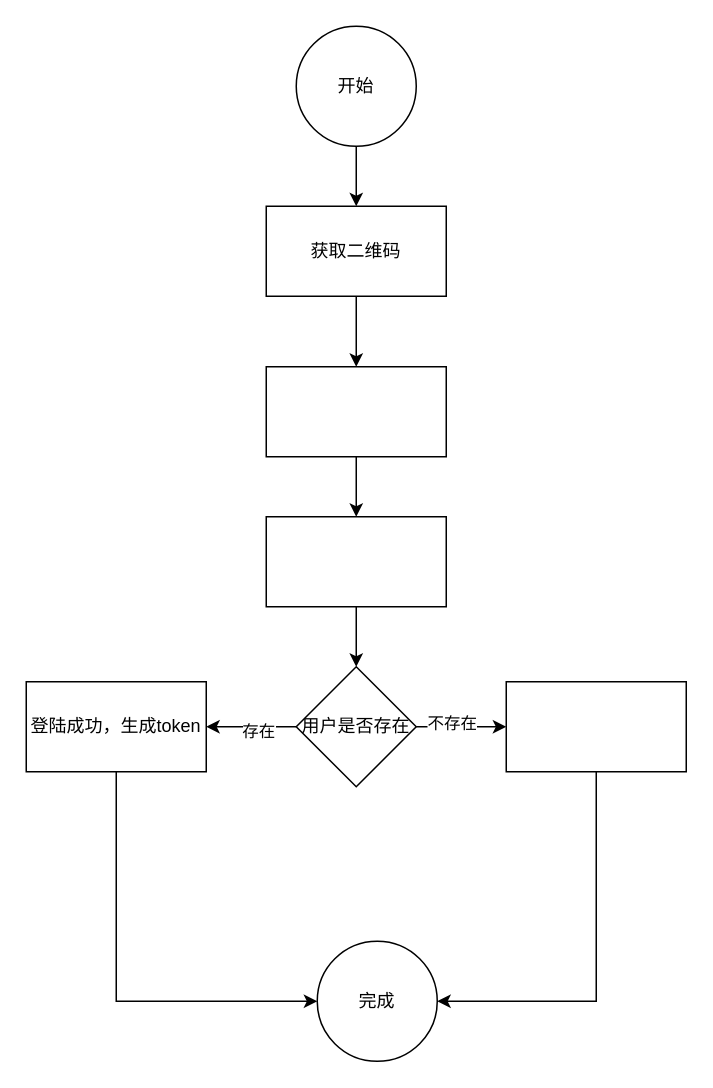
This 713x1088 diagram has some shape labels left out. Here are the shapes that lost their labels. From the top down, the centre of each, then its label:
At [355,411]: "检查用户是否扫码".
At [355,561]: "用户扫码，获取openid，并根据此查询用户是否存在".
At [595,726]: "跳转到绑定或者注册界面，输入手机号完成绑定".
